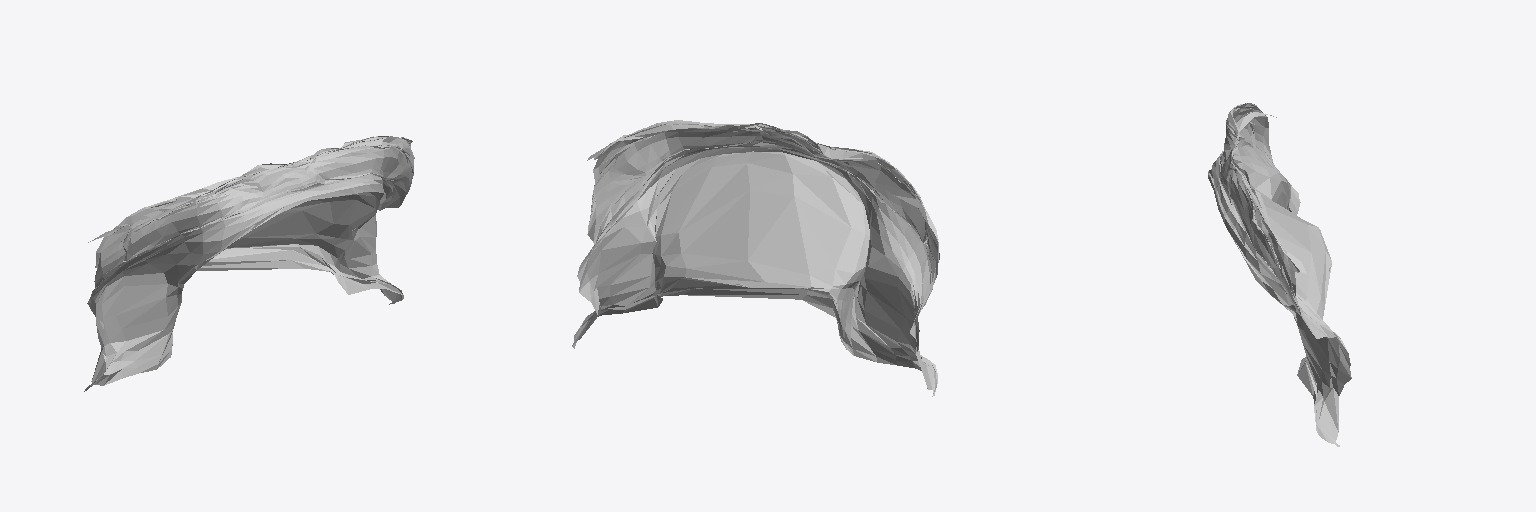
File: deformed_alpha_1_ModelRot.obj
3 renders of one model, left to right at view 1: azimuth 30°, elevation 25°; view 2: azimuth 150°, elevation 25°; view 3: azimuth 270°, elevation 25°, orthographic.
Bounding box in the file's own units: 0.587 × 0.3653 × 0.2151.